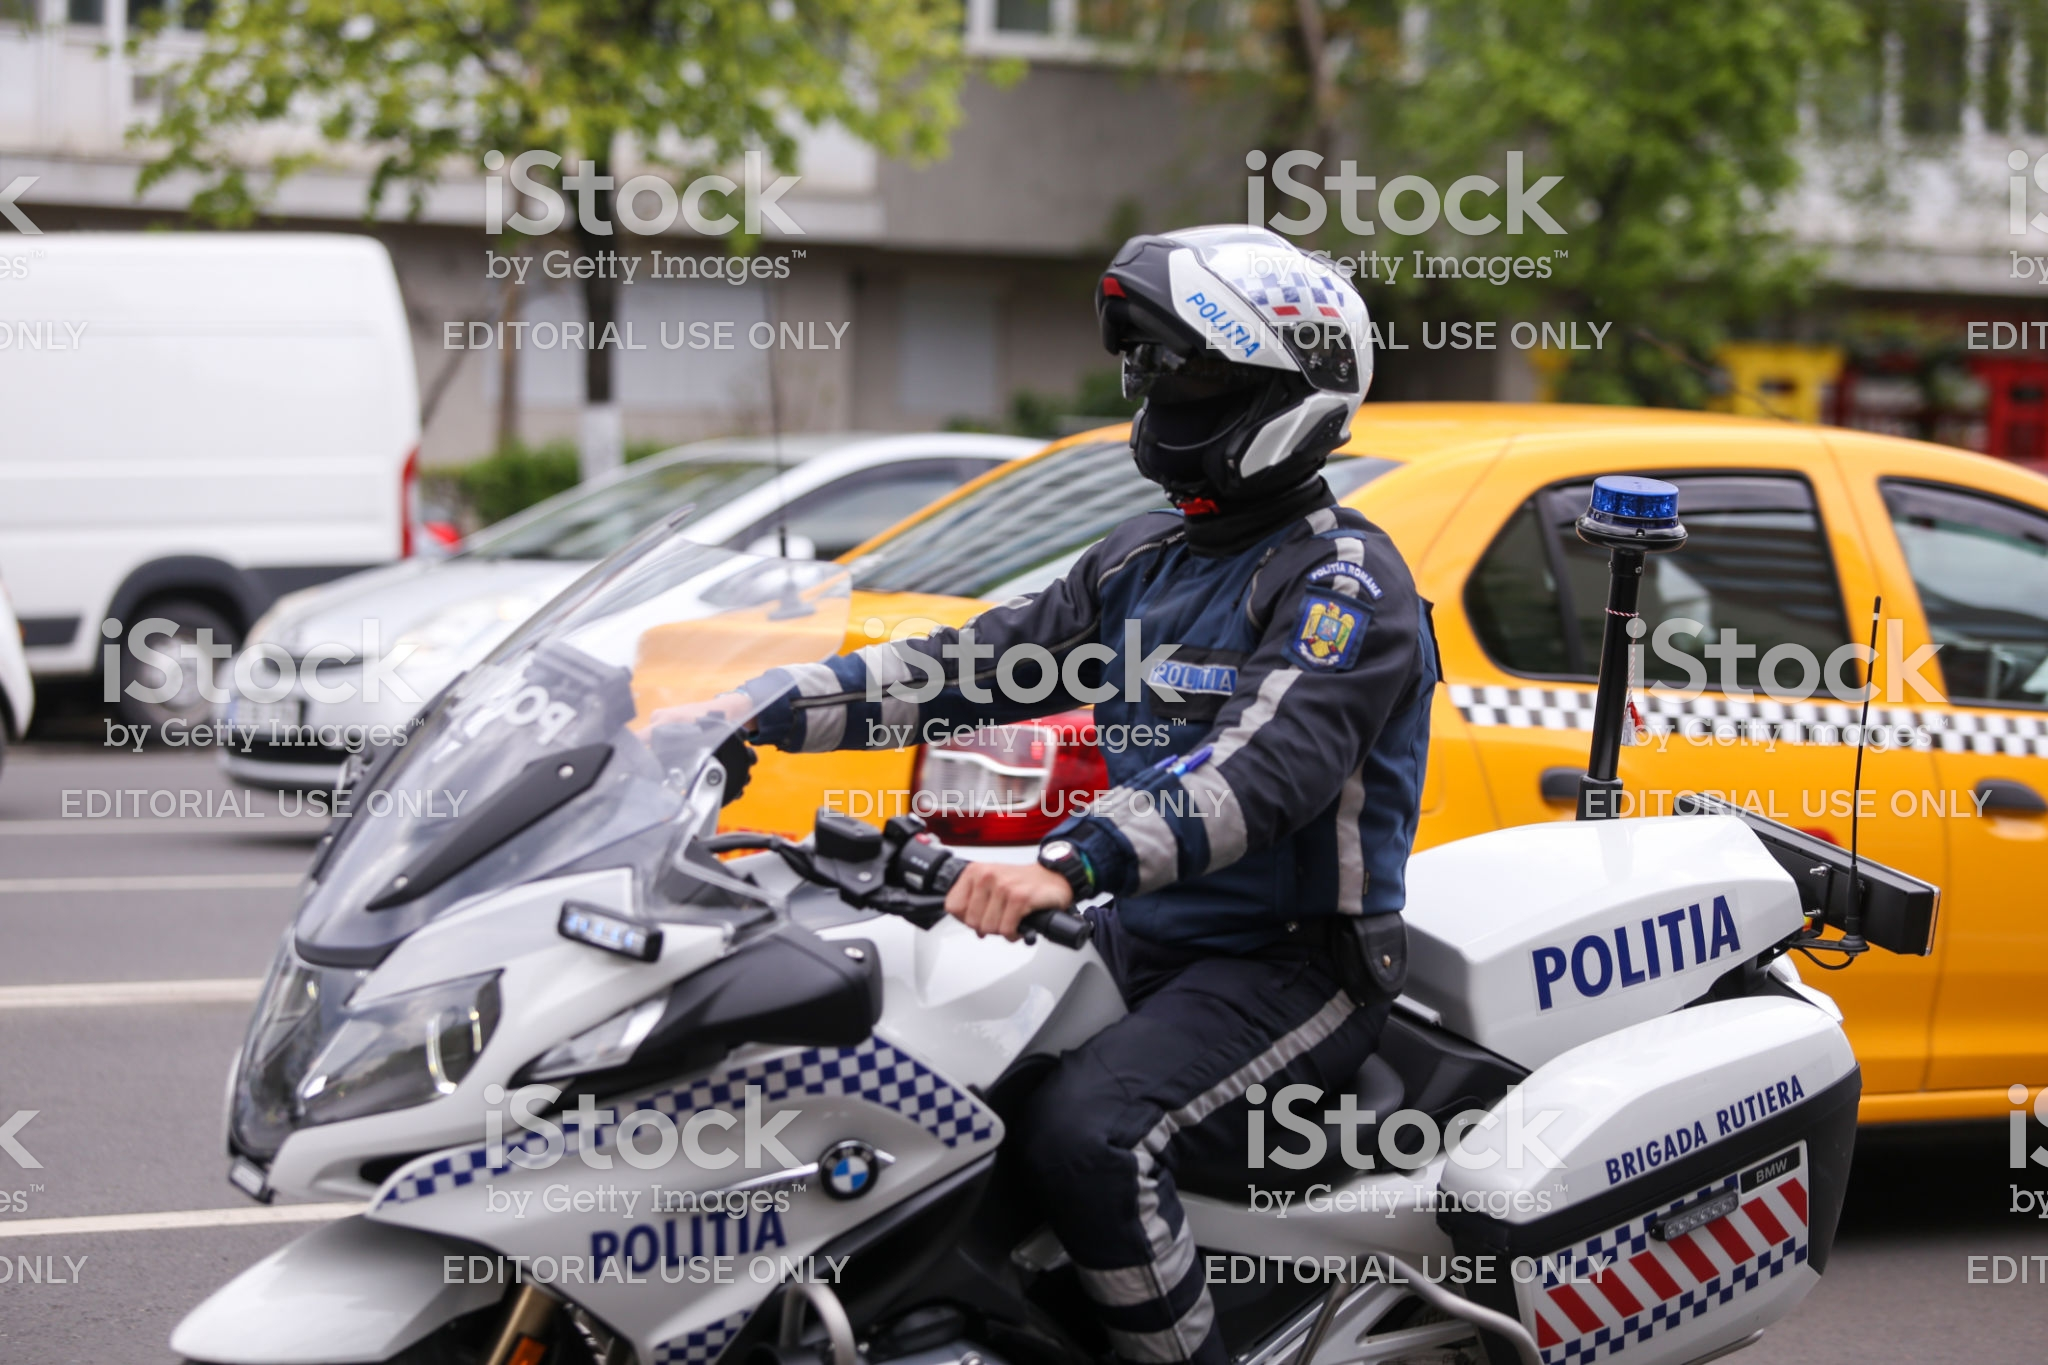helmet: (1118, 238, 1369, 497)
